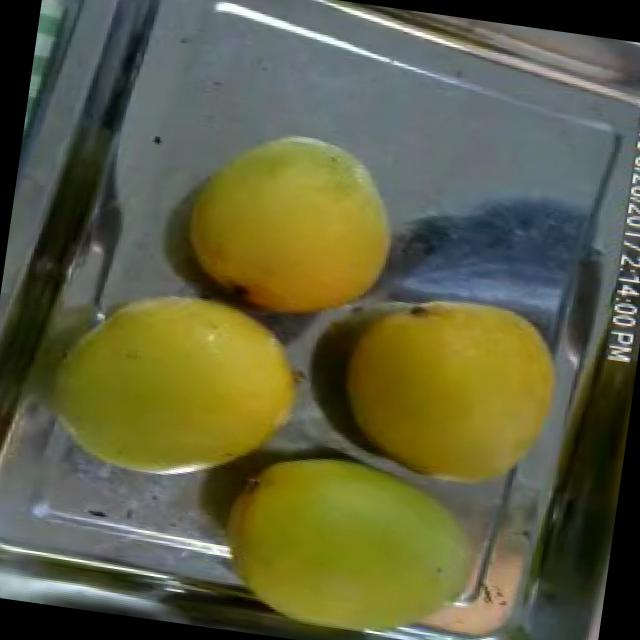fruit: (15, 248, 327, 514), (194, 413, 516, 640), (149, 96, 424, 356), (312, 266, 578, 514)
